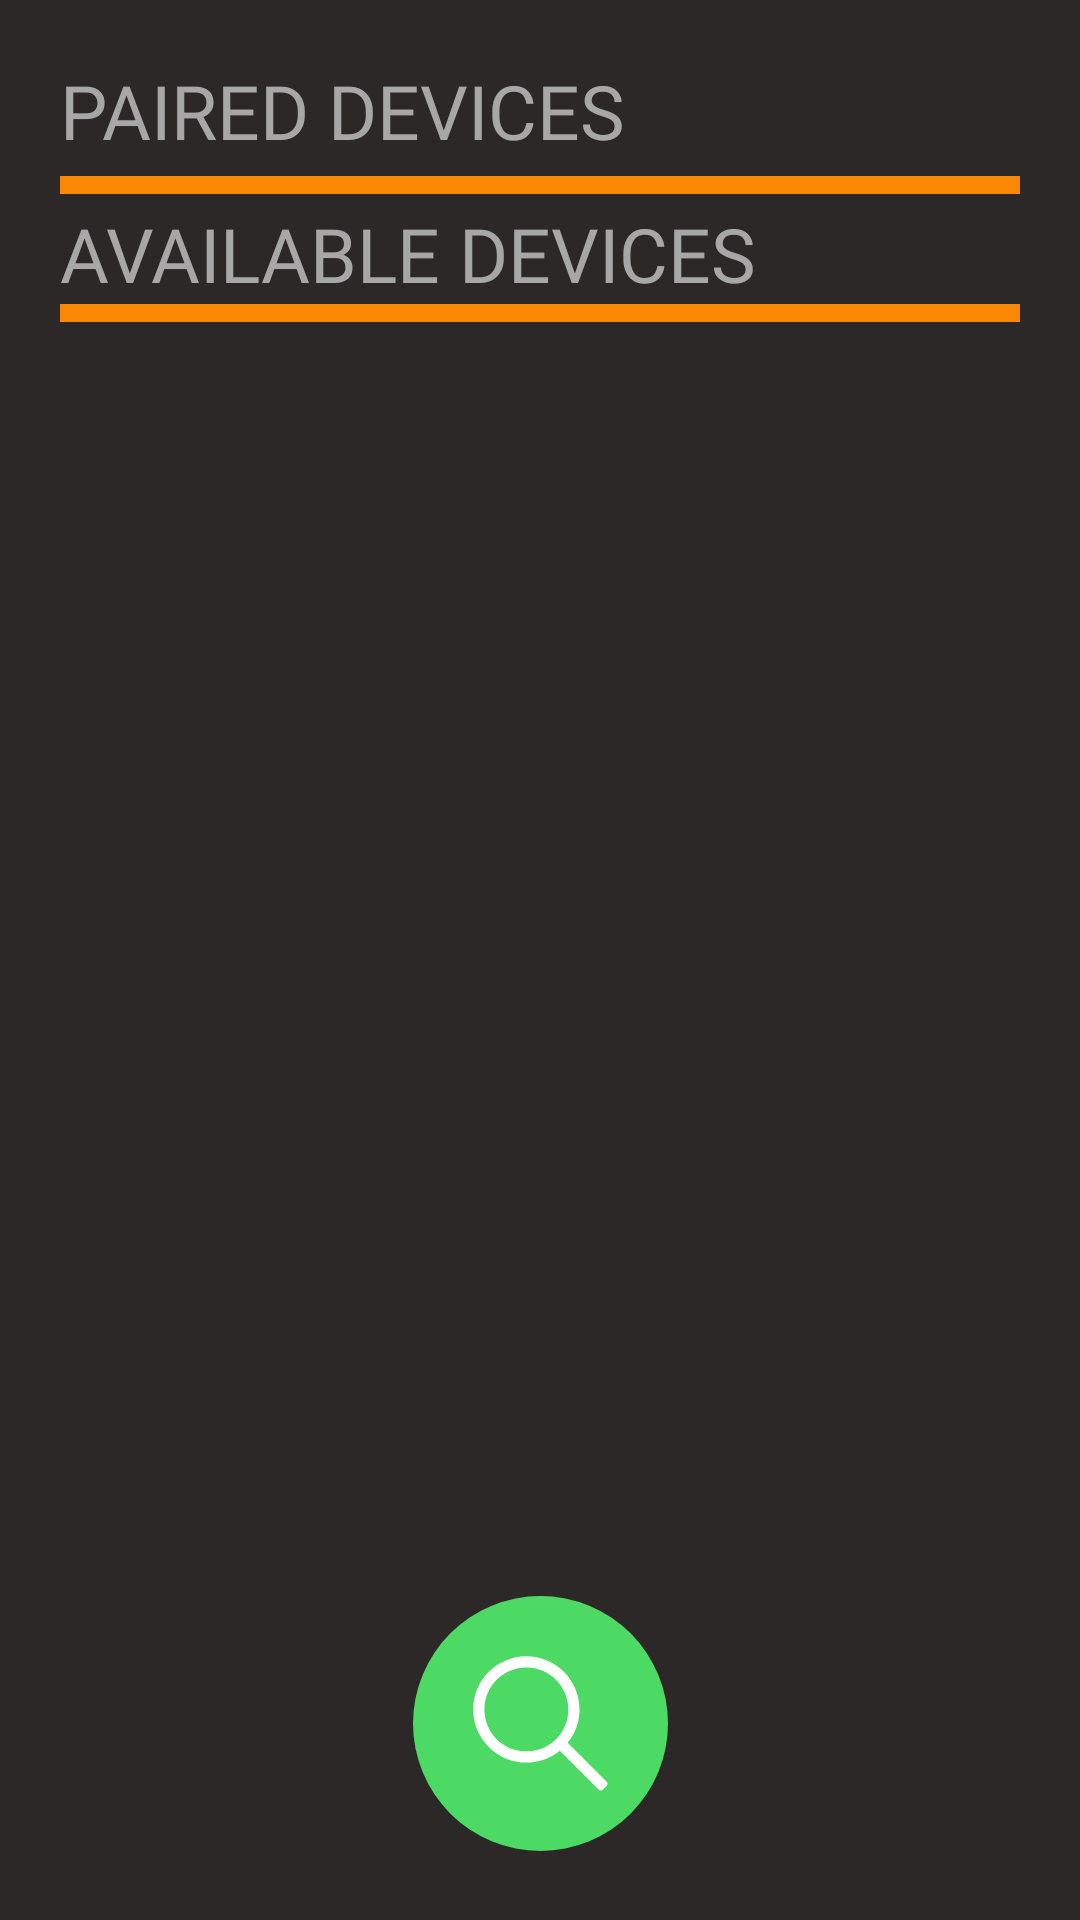

Screen size 1080w x 1920h. Icon name, then its center in pixels as [x,y]:
serach devices: [540,1723]
